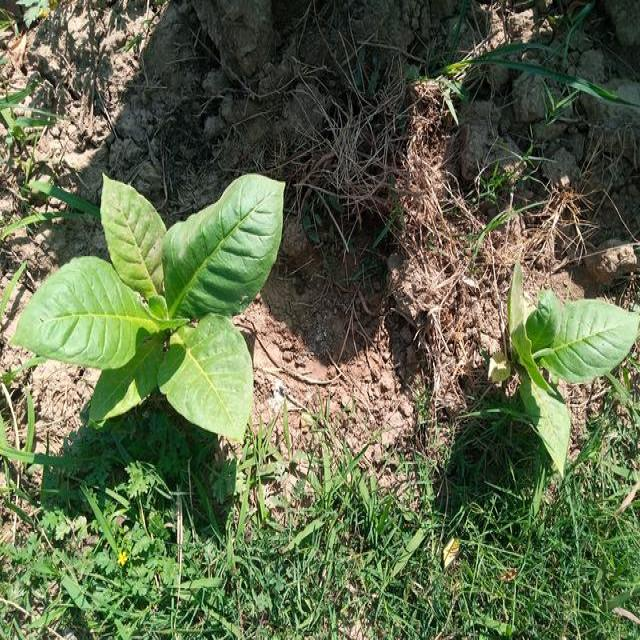crop: (18, 171, 279, 448), (502, 266, 636, 461)
